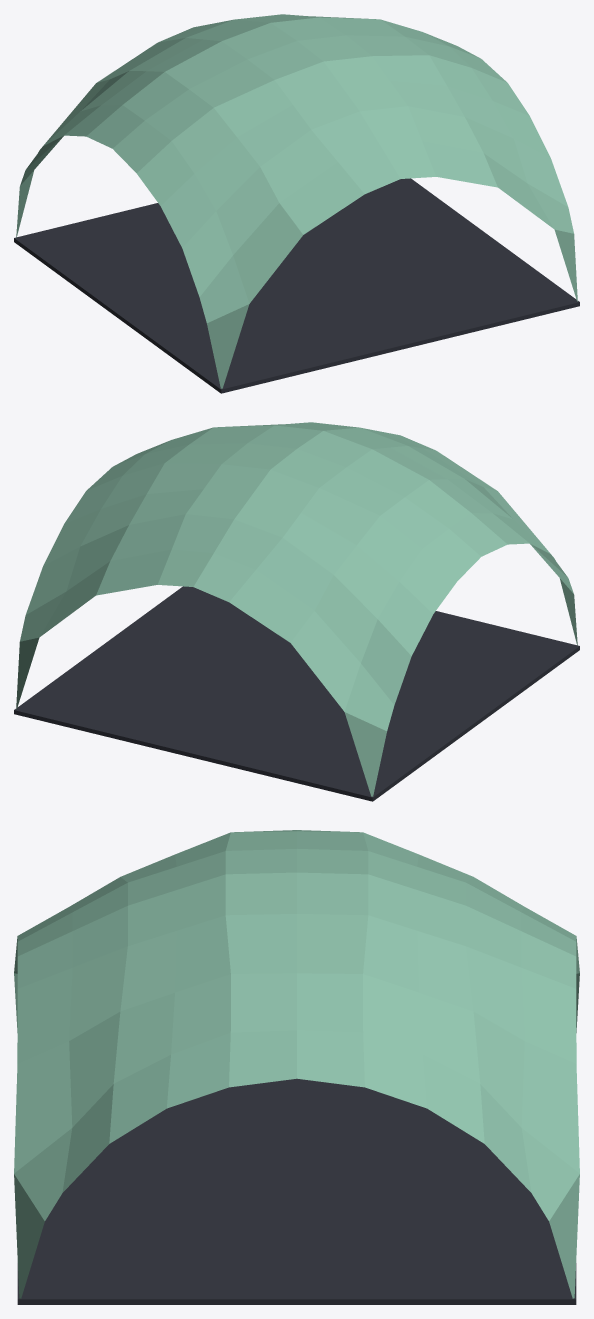
File: Round-Pavillion_01.fbx
3 views of the same model, one above another, from view 1: azimuth 30°, elevation 25°; view 2: azimuth 150°, elevation 25°; view 3: azimuth 270°, elevation 25° (orthographic). The views are drawn at different scales.
Visible parts, largest first — view 1: Round-Pavillion_01; view 2: Round-Pavillion_01; view 3: Round-Pavillion_01.
Boxes of the visible parts, x1,y1,x2,y2 form: Round-Pavillion_01: (14, 14, 579, 393); Round-Pavillion_01: (14, 422, 579, 801); Round-Pavillion_01: (14, 830, 579, 1304).
Size of the model in its own units: 5.17 by 3.11 by 5.07.
